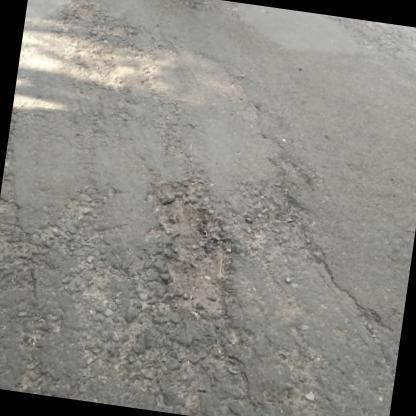pothole: (144, 166, 236, 330), (103, 338, 275, 416), (242, 152, 324, 276), (55, 0, 131, 87)
